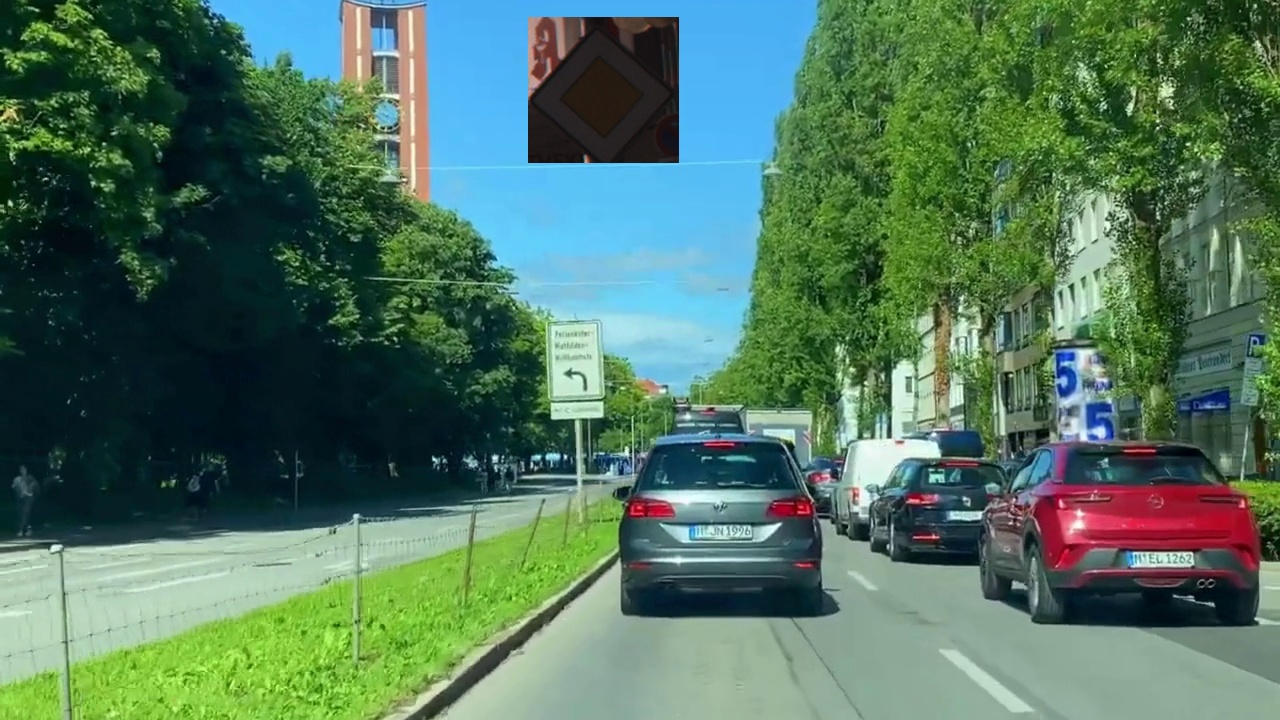Priority road: (528, 17, 679, 163)
